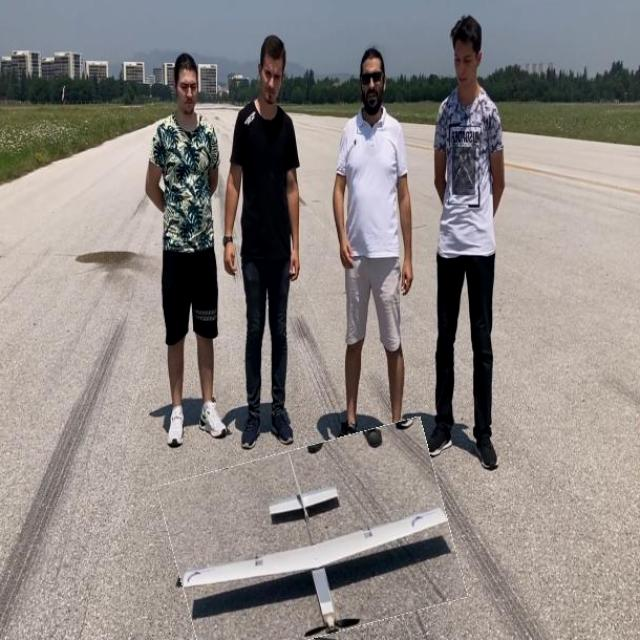plane: (174, 503, 451, 640)
